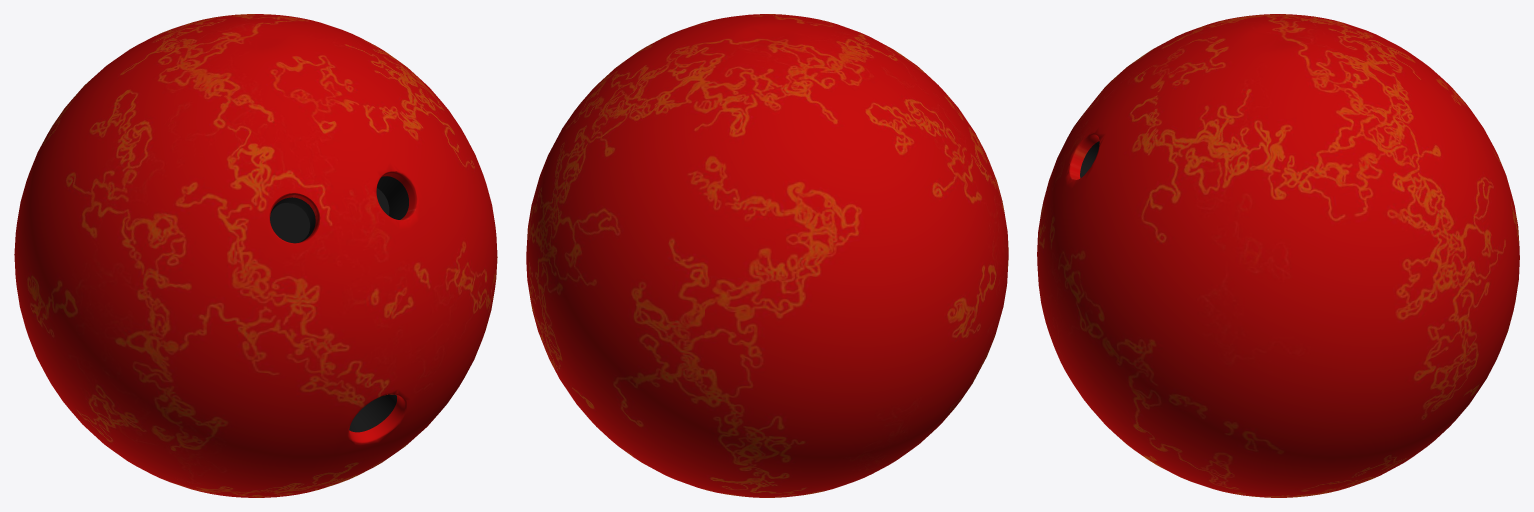
The model's file is red-bowlingball.glb.
3 renders of one model, left to right at view 1: azimuth 30°, elevation 25°; view 2: azimuth 150°, elevation 25°; view 3: azimuth 270°, elevation 25°, orthographic.
Parts seen in each view (by area): view 1: ball.Shape_ball_0.001; view 2: ball.Shape_ball_0.001; view 3: ball.Shape_ball_0.001.
Part boxes in pixels (bbox=[...]): ball.Shape_ball_0.001: bbox=[14, 14, 497, 497]; ball.Shape_ball_0.001: bbox=[526, 14, 1008, 497]; ball.Shape_ball_0.001: bbox=[1037, 14, 1519, 497].
Size of the model in its own units: 3.52 by 3.52 by 3.52.
1 material, 1 textured.
